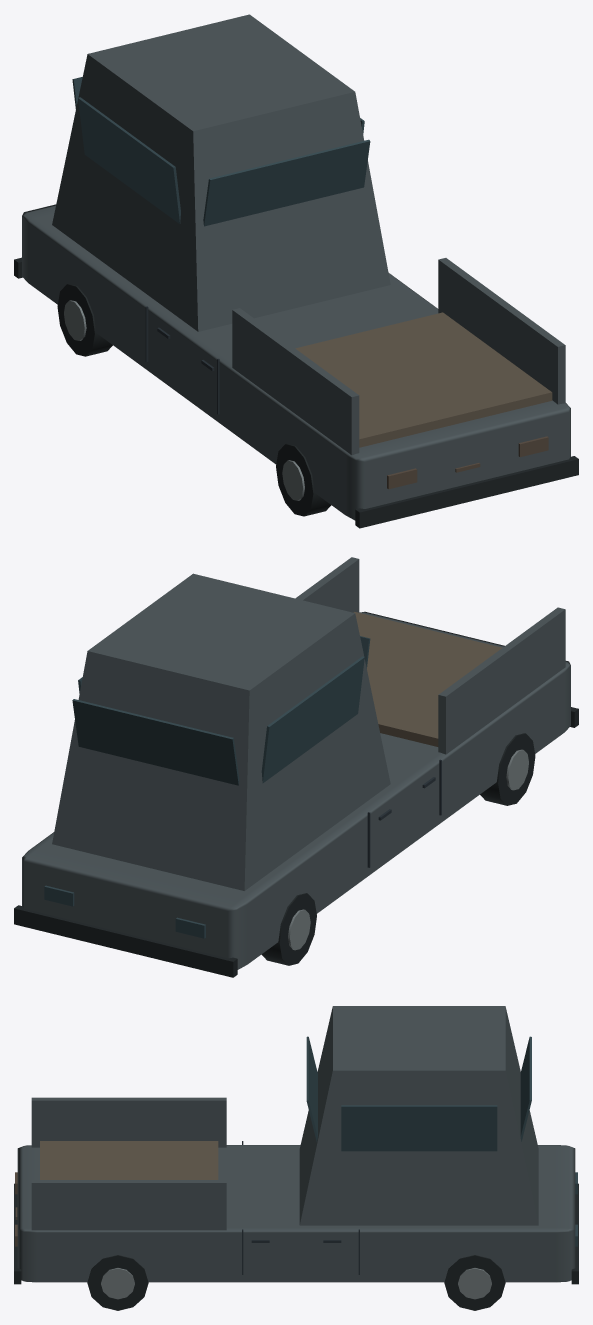
Rendered from small-truck-1.glb.
3 renders of one model, top to bottom at view 1: azimuth 30°, elevation 25°; view 2: azimuth 150°, elevation 25°; view 3: azimuth 270°, elevation 25°, orthographic. The views are drawn at different scales.
Parts seen in each view (by area): view 1: small-truck/0/KR-230-1; view 2: small-truck/0/KR-230-1; view 3: small-truck/0/KR-230-1.
Part boxes in pixels (x1=…): small-truck/0/KR-230-1: x1=14, y1=14, x2=578, y2=528; small-truck/0/KR-230-1: x1=14, y1=557, x2=578, y2=977; small-truck/0/KR-230-1: x1=14, y1=1006, x2=578, y2=1310.
Size of the model in its own units: 2.37 by 2.8 by 6.28.
